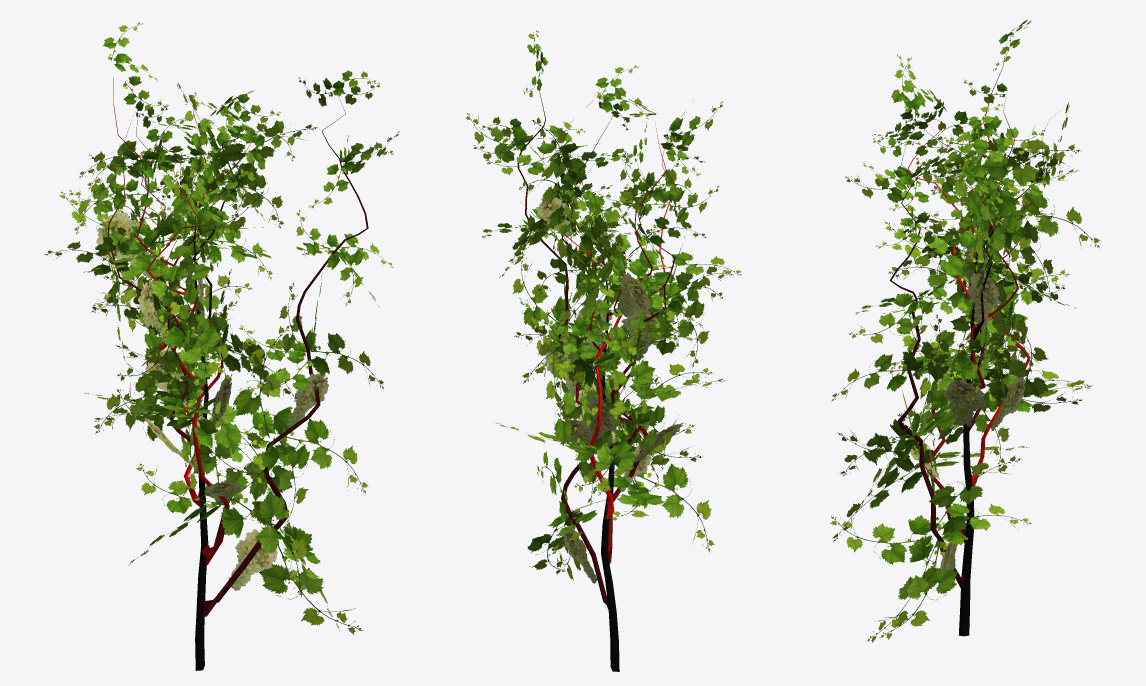
File: grape1 lod0.FBX
3 renders of one model, left to right at view 1: azimuth 30°, elevation 25°; view 2: azimuth 150°, elevation 25°; view 3: azimuth 270°, elevation 25°, orthographic. The views are drawn at different scales.
Visible parts, largest first — view 1: grape_plant; view 2: grape_plant; view 3: grape_plant.
Part boxes in pixels (x1,y1,x2,y2): grape_plant: (44, 22, 399, 670); grape_plant: (466, 30, 741, 671); grape_plant: (830, 19, 1100, 642).
Bounding box in the file's own units: 30843 × 52877 × 26340.
